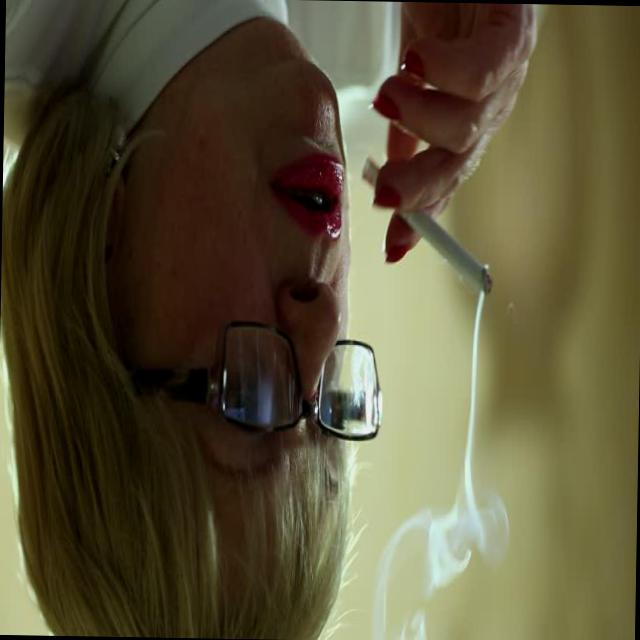cigarette: (344, 128, 506, 332)
